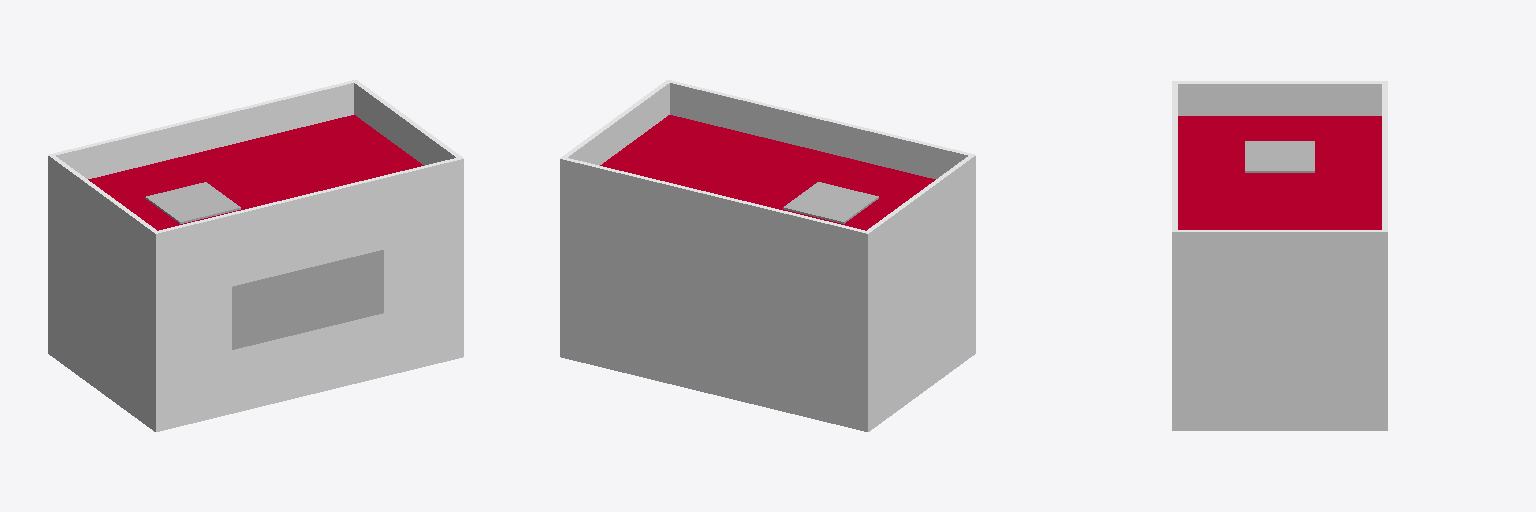
The model's file is holes.obj.
The picture shows the model from 3 angles: view 1: azimuth 30°, elevation 25°; view 2: azimuth 150°, elevation 25°; view 3: azimuth 270°, elevation 25°; orthographic projection.
Parts seen in each view (by area): view 1: wall_3_6, wall_4_9, room_2_22, wall_7_14, piece_a_18, wall_5_11, wall_8_17, wall_6_13, piece_a_19; view 2: wall_1_2, wall_4_9, room_2_22, wall_5_10, wall_7_15, wall_8_17, wall_6_13, piece_a_19; view 3: wall_2_4, room_2_22, wall_6_12, wall_8_16, piece_a_19.
Boxes of the visible parts, x1=… form: wall_3_6: x1=156, y1=198, x2=463, y2=431; wall_4_9: x1=48, y1=195, x2=155, y2=431; room_2_22: x1=88, y1=115, x2=423, y2=230; wall_7_14: x1=156, y1=158, x2=463, y2=272; piece_a_18: x1=232, y1=250, x2=383, y2=349; wall_5_11: x1=53, y1=81, x2=354, y2=178; wall_8_17: x1=48, y1=155, x2=156, y2=272; wall_6_13: x1=354, y1=81, x2=459, y2=165; piece_a_19: x1=145, y1=182, x2=240, y2=223; wall_1_2: x1=560, y1=198, x2=867, y2=431; wall_4_9: x1=868, y1=195, x2=975, y2=431; room_2_22: x1=600, y1=115, x2=935, y2=230; wall_5_10: x1=560, y1=158, x2=867, y2=272; wall_7_15: x1=669, y1=81, x2=970, y2=178; wall_8_17: x1=867, y1=155, x2=975, y2=272; wall_6_13: x1=564, y1=81, x2=669, y2=165; piece_a_19: x1=783, y1=182, x2=878, y2=223; wall_2_4: x1=1172, y1=272, x2=1387, y2=430; room_2_22: x1=1178, y1=116, x2=1381, y2=229; wall_6_12: x1=1172, y1=231, x2=1387, y2=271; wall_8_16: x1=1177, y1=83, x2=1382, y2=115; piece_a_19: x1=1245, y1=141, x2=1314, y2=172.
Bounding box in the file's own units: 508 × 312 × 308.